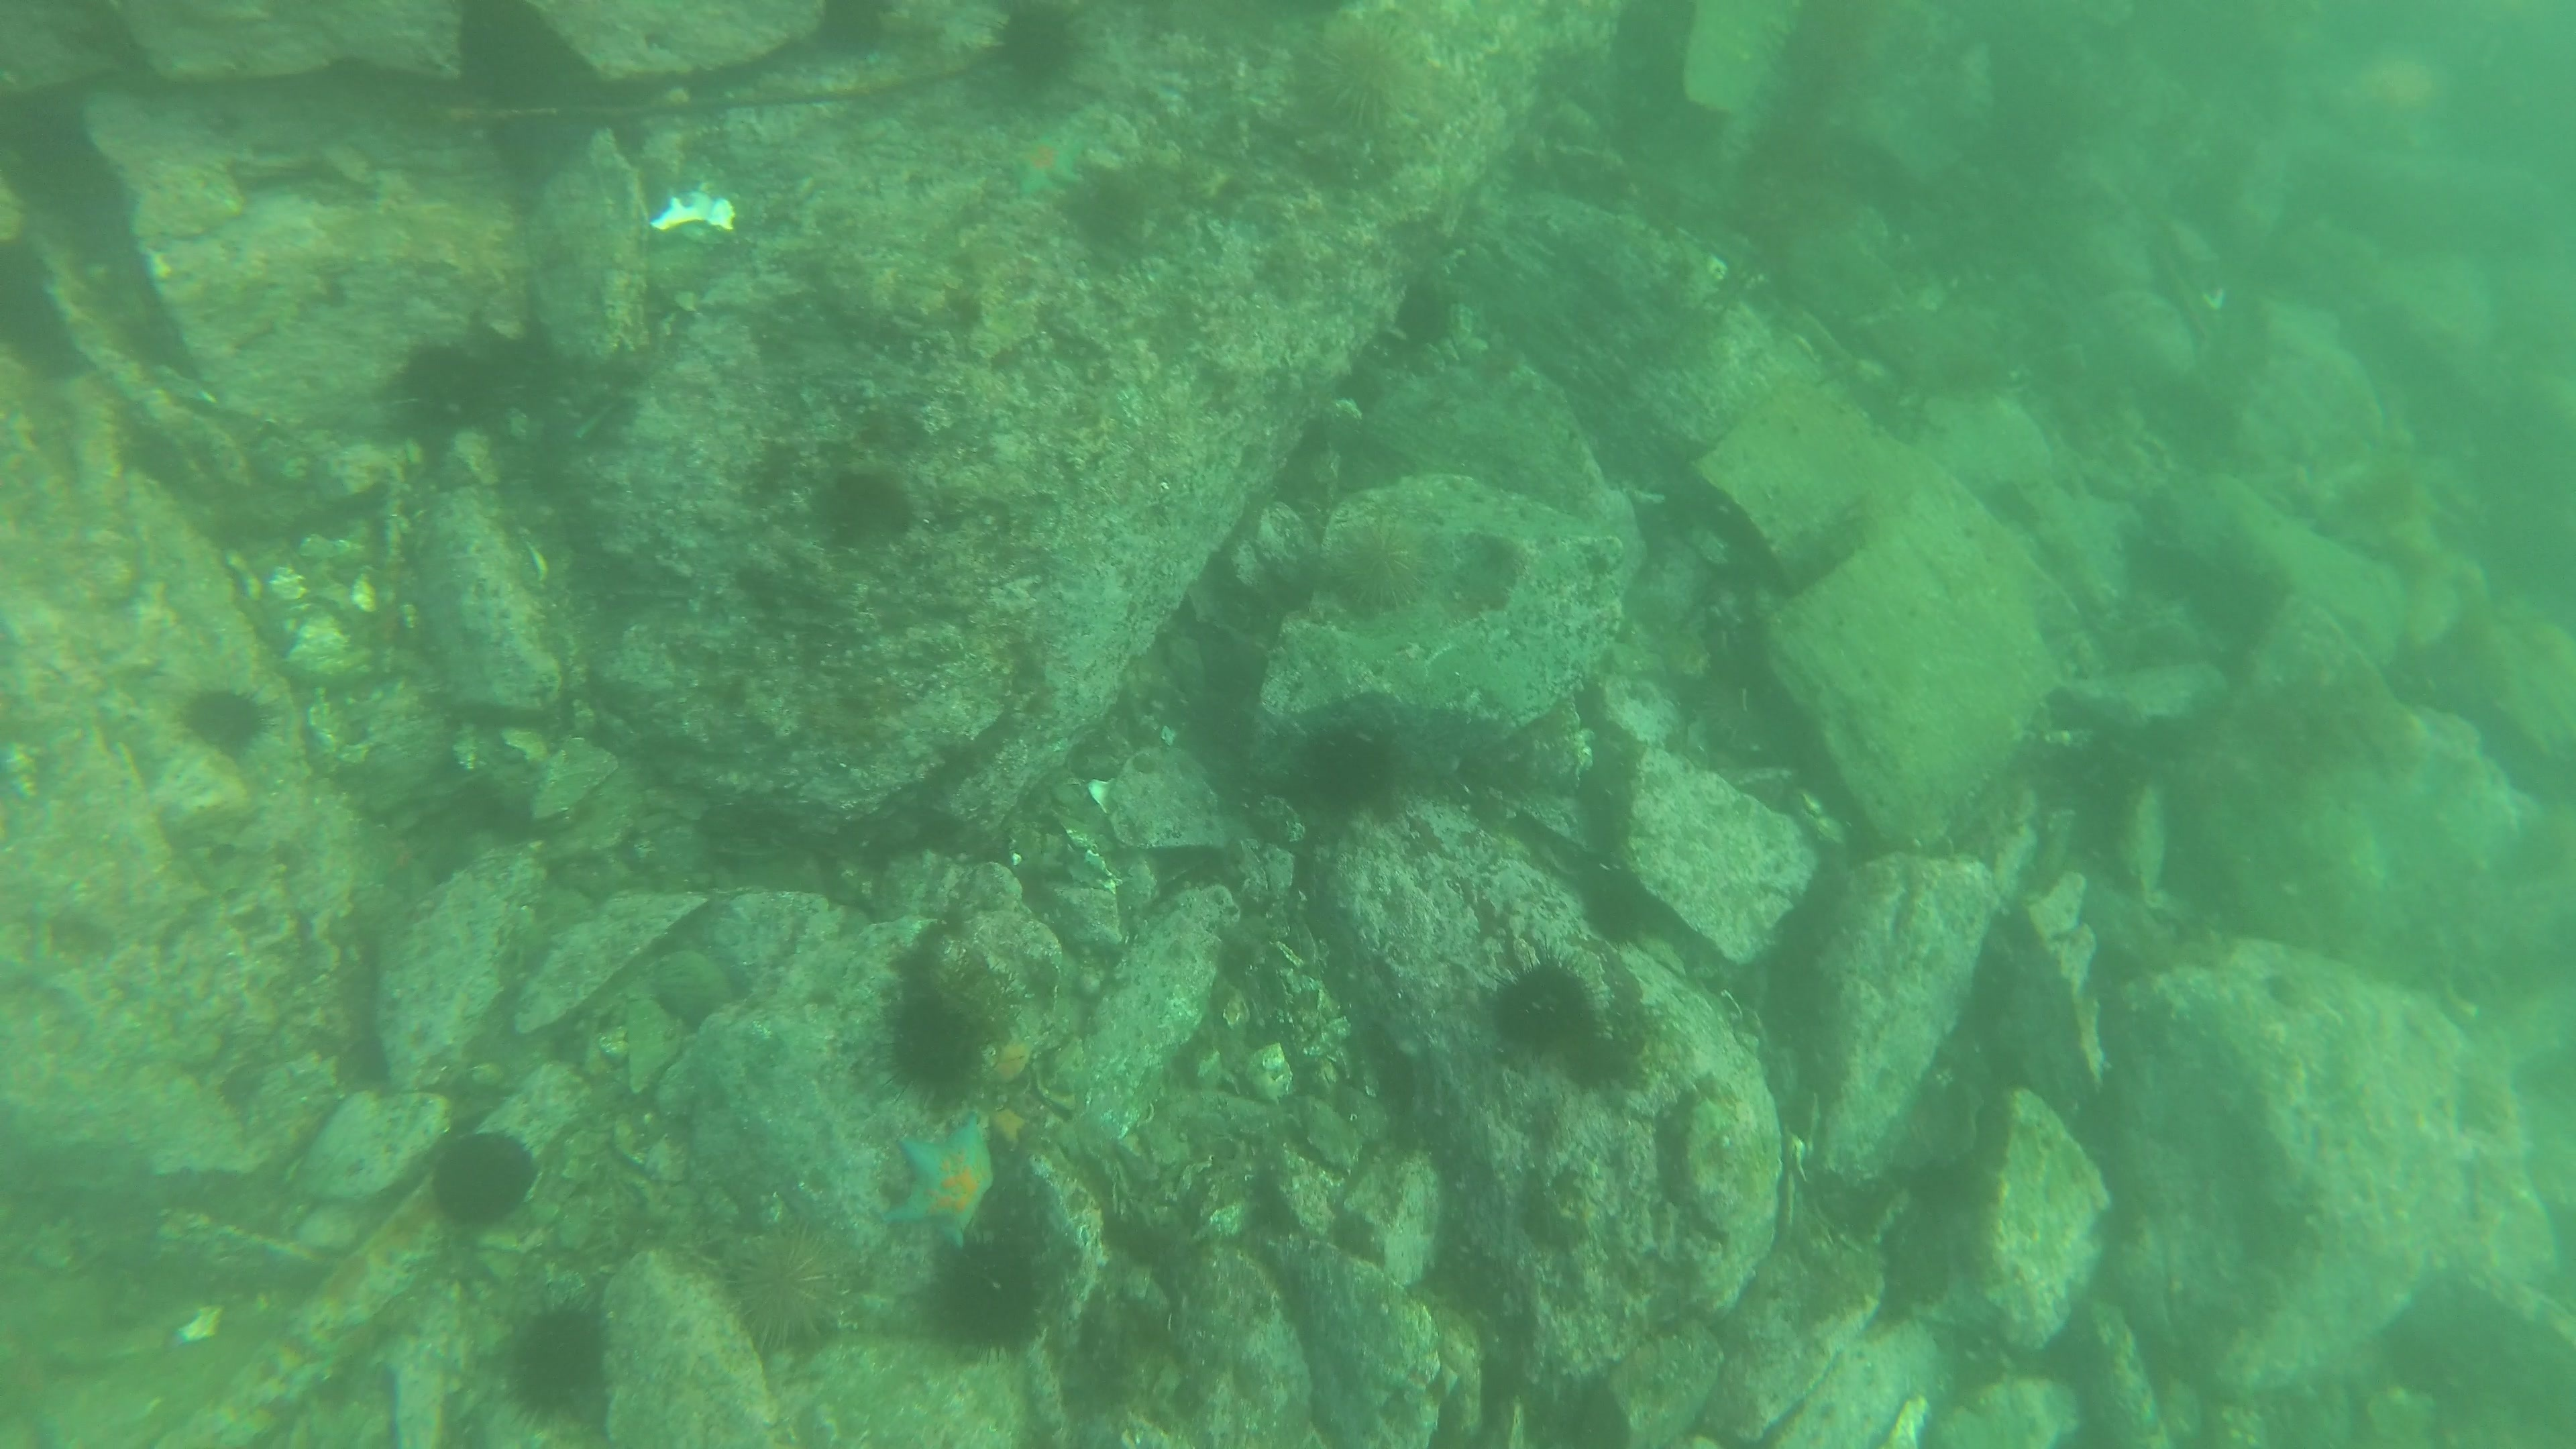echinus: (713, 1214, 860, 1357), (1288, 11, 1437, 145), (1376, 697, 1529, 817), (492, 1293, 621, 1428), (920, 1233, 1051, 1357), (1316, 508, 1449, 621), (1481, 950, 1606, 1065), (876, 984, 994, 1104), (1286, 708, 1408, 821), (419, 1123, 543, 1235), (384, 333, 510, 441), (980, 2, 1097, 97), (810, 460, 922, 557), (1058, 159, 1157, 262), (172, 676, 276, 763), (1384, 272, 1467, 357), (801, 0, 904, 67)
starfish: (2316, 37, 2470, 157), (883, 1113, 1008, 1253), (640, 939, 750, 1035), (994, 111, 1100, 209), (975, 1023, 1054, 1100), (978, 1095, 1040, 1159)
